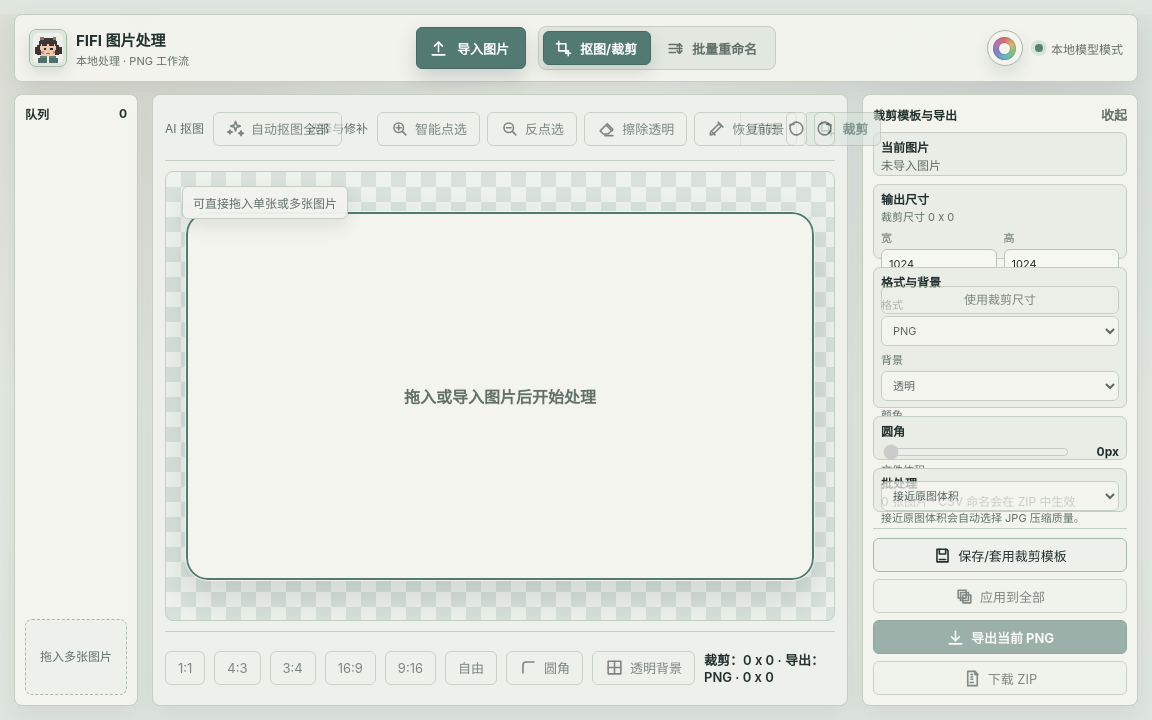
Test: App layout › opens the theme palette and persists the selected theme
Click the button named "切换配色".
click(1005, 48)  # box x1=987 y1=30 x2=1023 y2=66
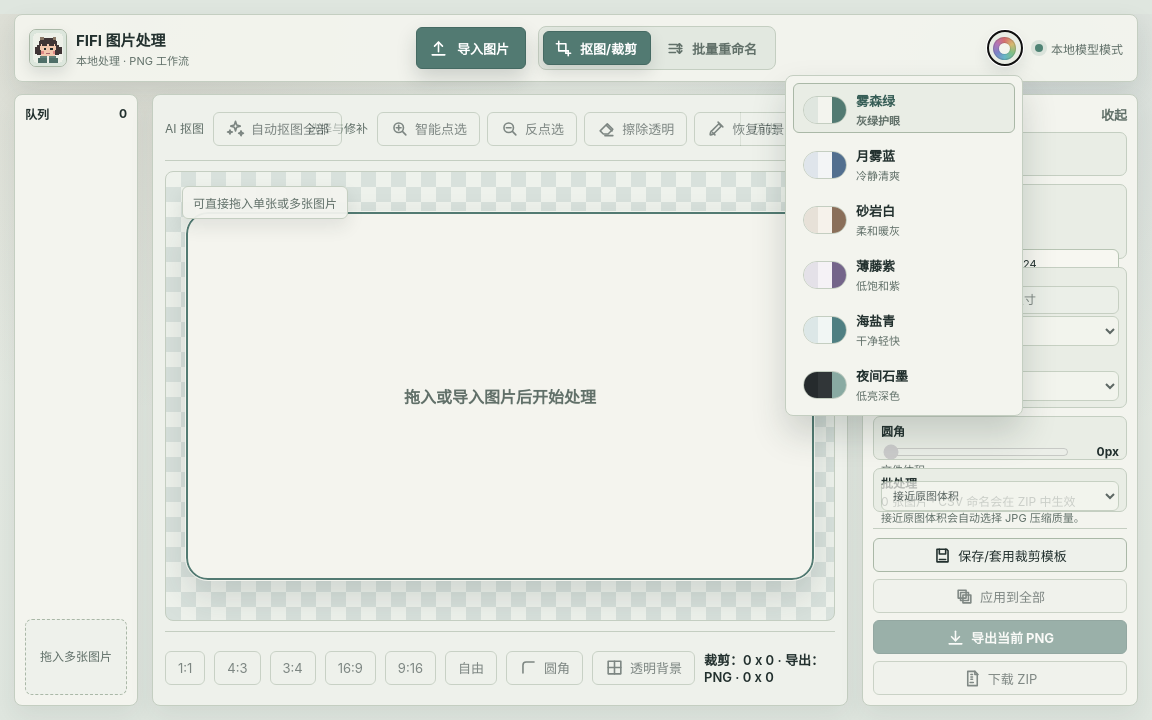
Check: the list named "配色主题" is shown, box x1=785 y1=75 x2=1023 y2=416
Click the option "月雾蓝 冷静清爽".
click(904, 163)  # box x1=793 y1=138 x2=1015 y2=188
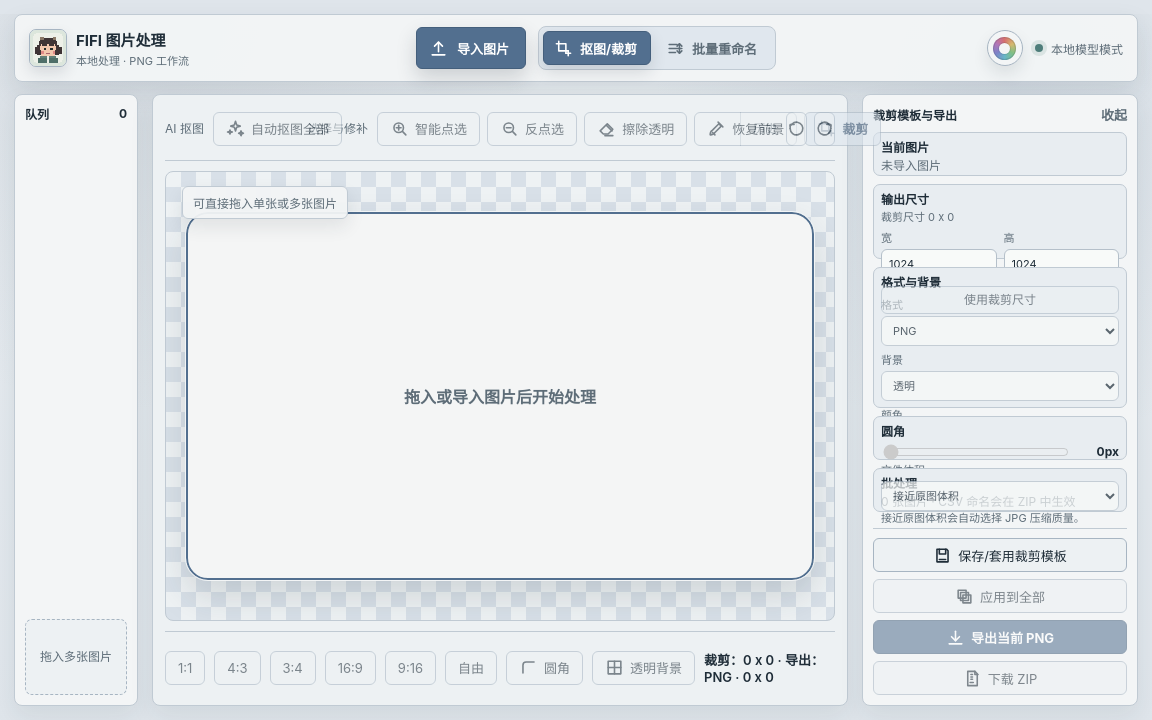
Check: the button named "当前：月雾蓝" is shown, box x1=987 y1=30 x2=1023 y2=66
